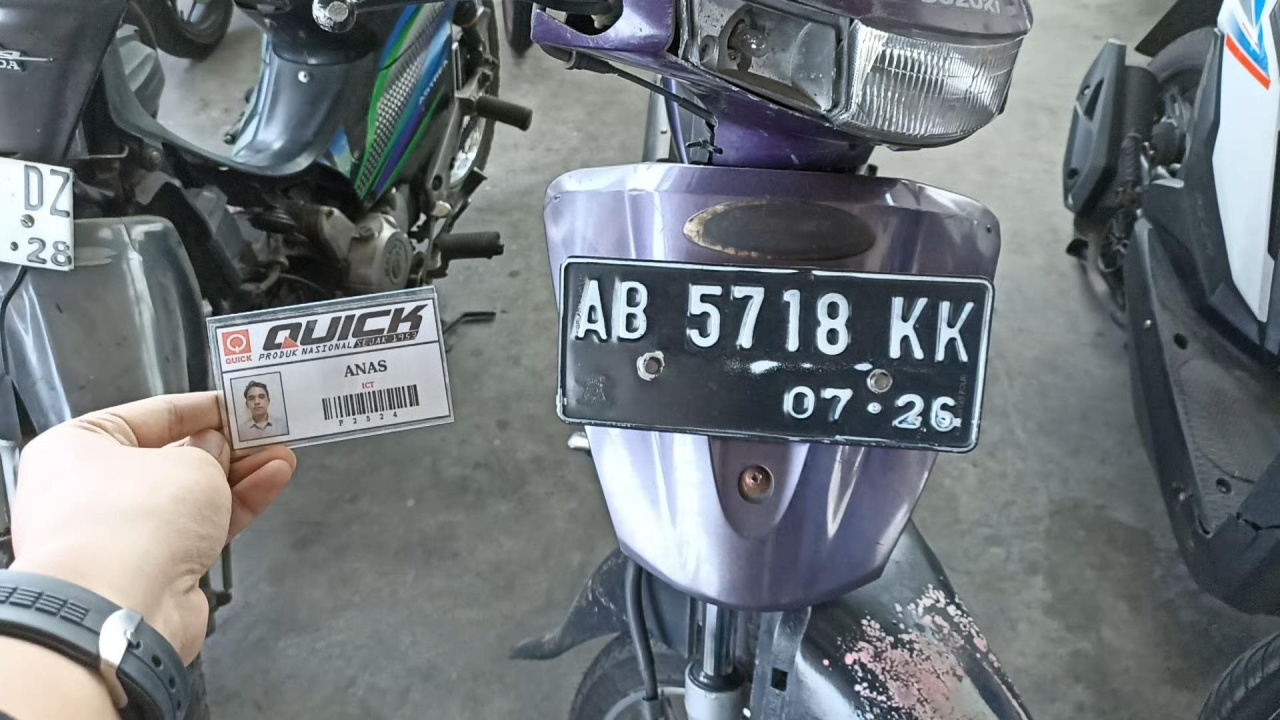plate: (556, 257, 994, 452)
